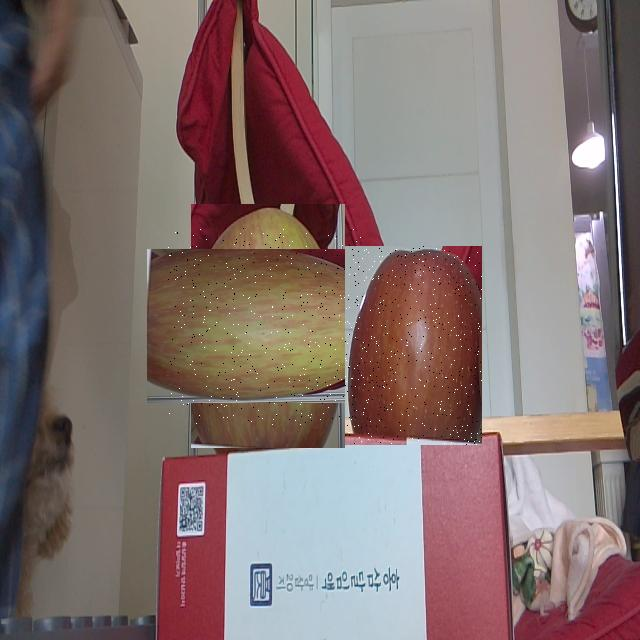apple: (168, 227, 368, 425), (345, 246, 482, 445)
